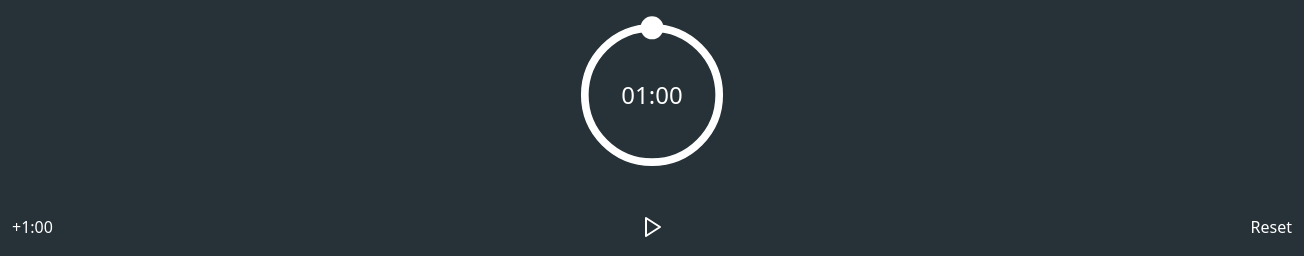
Test: Timer Component › should add one minute to the timer when the +1:00 button is clicked
Click the button named "Add one minute" at (32, 227), box [12,215,53,239]
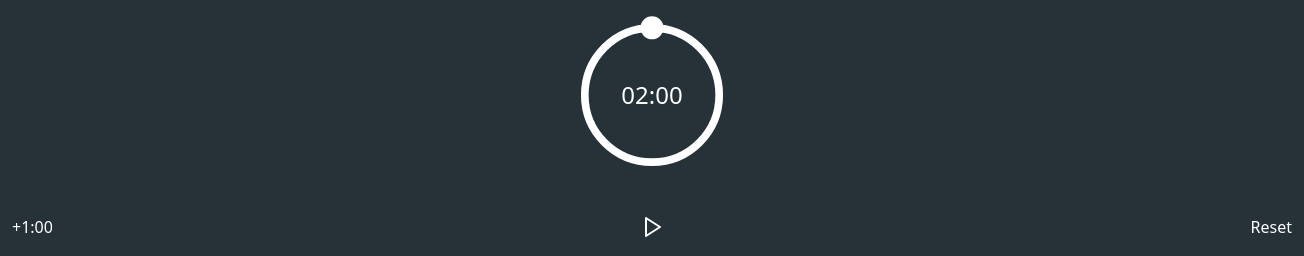
Expected: the field showing "02" is shown, [609,79,649,111]
